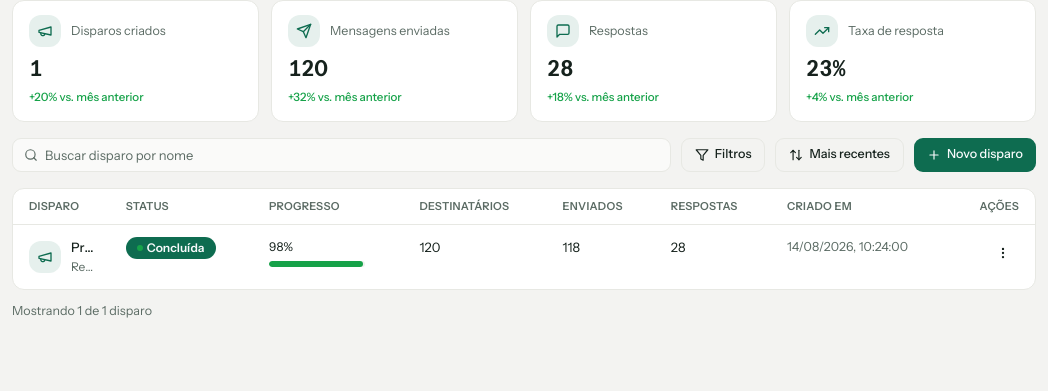
Scenario: CampaignsPanel (retrofit visual 2026-08-18) › Filtros: filtrar por "Em andamento" esconde o único disparo (concluído)
The width and height of the screenshot is (1048, 391).
Expected: the text "Promoção Especial" is shown, top-left (71, 237), bottom-right (94, 257)
What coordinates should you click on to do the following:
click the button "Filtros"
I would click on:
 (723, 154)
Its box is top-left (681, 138), bottom-right (765, 172).
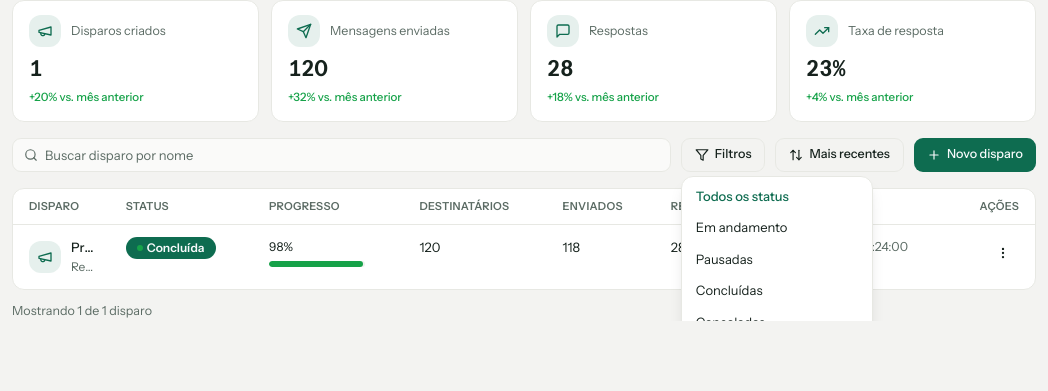
What coordinates should you click on to do the following:
click the menu item "Em andamento"
I would click on:
 (777, 228)
Its box is top-left (686, 212), bottom-right (868, 244).
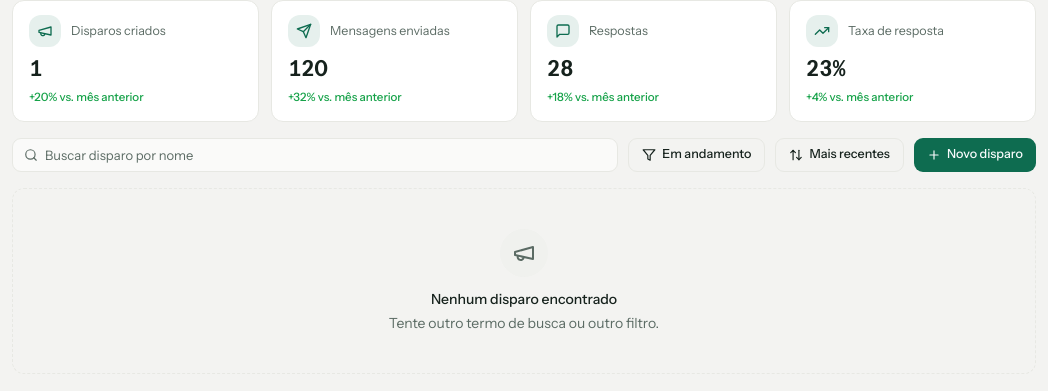
Expected: the element with test id "campaigns-table" is gone
Expected: the text "Nenhum disparo encontrado" is shown, top-left (431, 290), bottom-right (617, 308)
